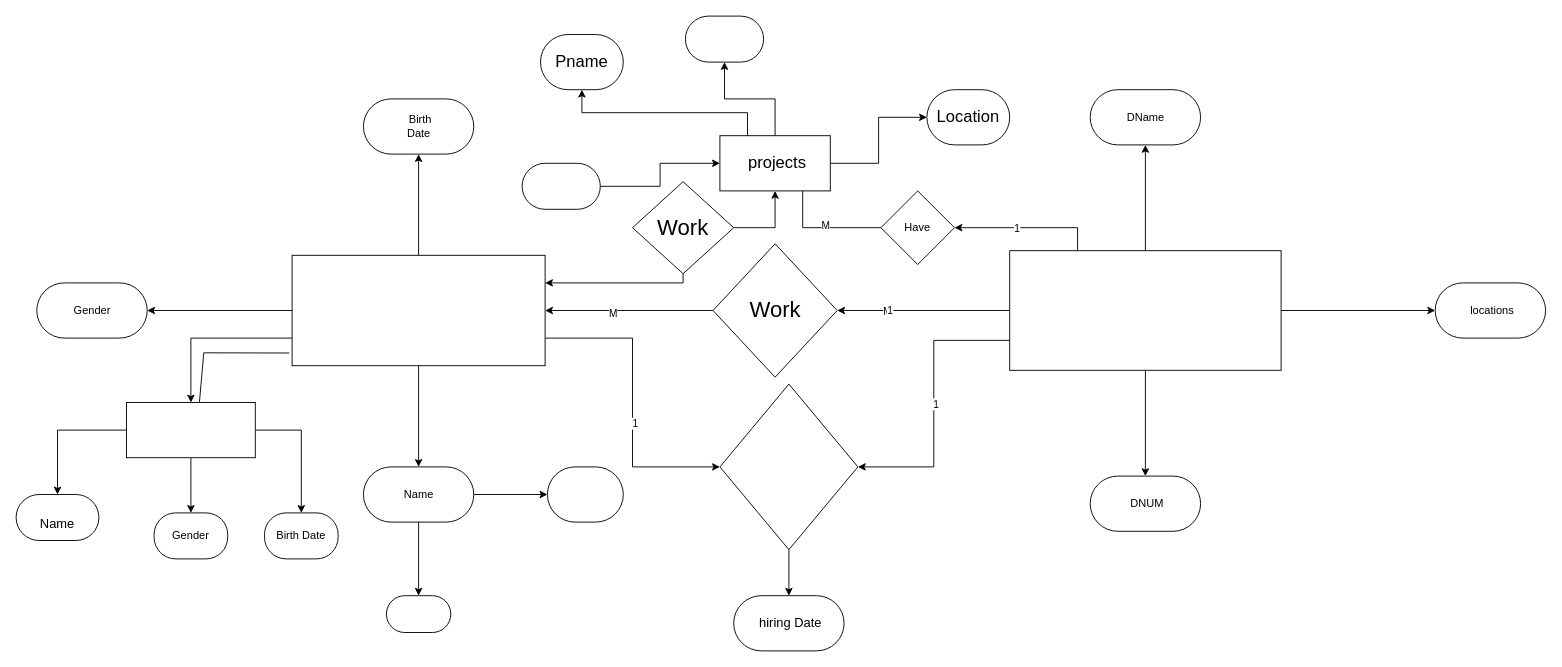
Some shapes in this 1562 by 667 pixel diagram are drawn without their labels. The box of each missing label's shape, as (x1, y1, x2, y2) in pixels:
City: (521, 162, 600, 209)
department: (1009, 250, 1281, 370)
Dependent: (126, 402, 255, 458)
employees: (291, 254, 545, 366)
Fname: (546, 466, 623, 522)
Lname: (385, 595, 451, 632)
manage: (719, 383, 858, 550)
PNumber: (684, 15, 764, 62)
